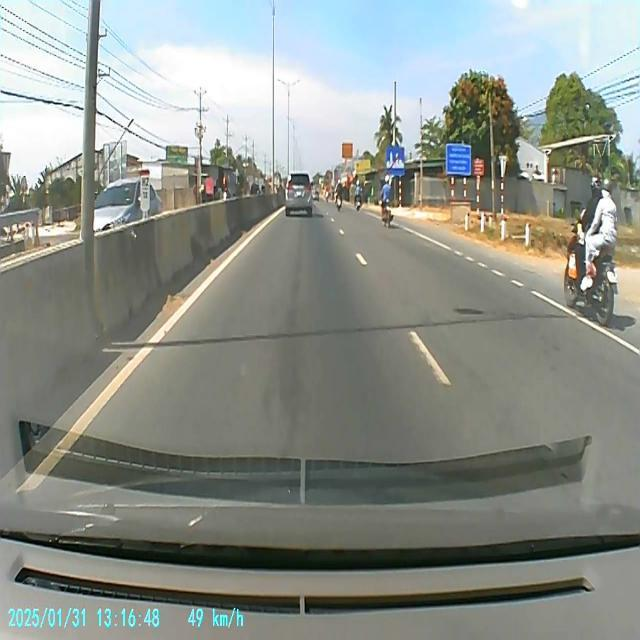421-ket-thuc-khu-dong-dan-cu: (387, 147, 405, 177)
